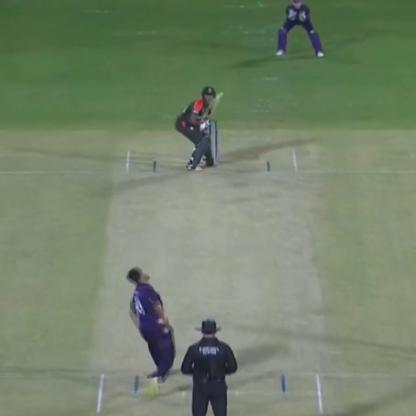bat: (198, 76, 228, 124)
pitch: (93, 149, 331, 412)
